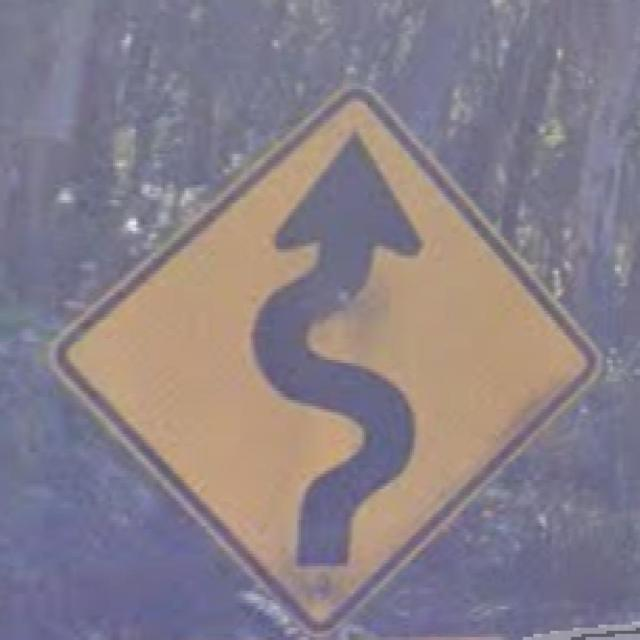Banyak Tikungan Pertama Kanan: (40, 71, 602, 637)
